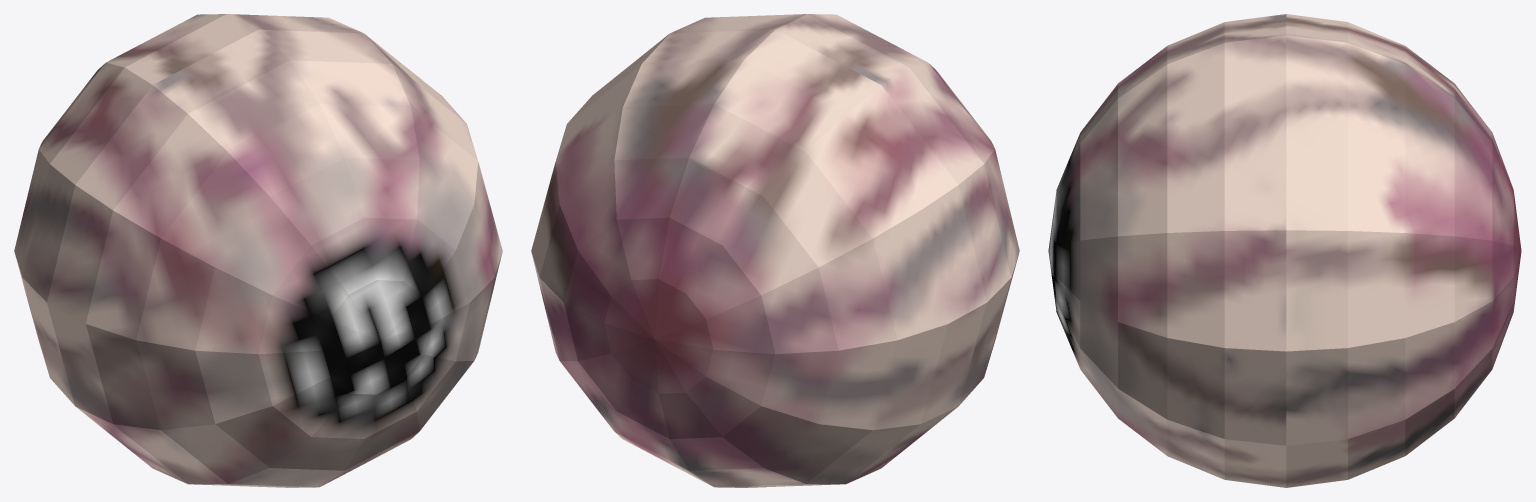
Rendered from eyeball-writes.glb.
3 renders of one model, left to right at view 1: azimuth 30°, elevation 25°; view 2: azimuth 150°, elevation 25°; view 3: azimuth 270°, elevation 25°, orthographic. The views are drawn at different scales.
Parts seen in each view (by area): view 1: nolids; view 2: nolids; view 3: nolids.
Part boxes in pixels (bbox=[...]): nolids: bbox=[14, 14, 502, 487]; nolids: bbox=[531, 14, 1019, 487]; nolids: bbox=[1048, 14, 1521, 487].
Bounding box in the file's own units: 2 × 2 × 1.99.
Materials: 1 (1 with a texture image).
